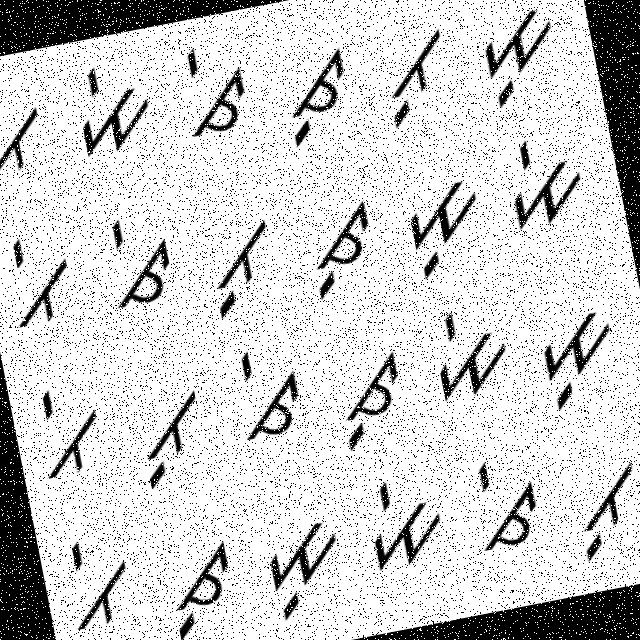be: (49, 524, 143, 639), (22, 376, 116, 489), (0, 224, 83, 338), (0, 74, 65, 185)
bu: (368, 15, 461, 134), (197, 202, 288, 321), (127, 378, 216, 494), (564, 448, 639, 568)
ce: (164, 35, 262, 146), (94, 202, 184, 314), (228, 336, 314, 446), (464, 451, 552, 558)
cu: (264, 36, 364, 150), (324, 339, 418, 455), (301, 192, 391, 304), (159, 534, 250, 639)
me: (422, 300, 524, 416), (492, 122, 592, 235), (354, 466, 454, 576), (63, 56, 164, 162)
mu: (387, 162, 498, 290), (523, 293, 632, 416), (248, 510, 354, 632), (464, 0, 570, 116)
